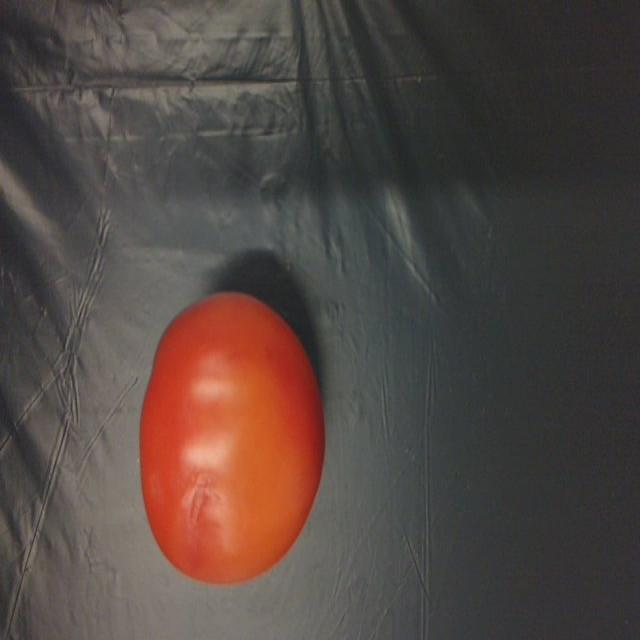kirmizi: (132, 284, 332, 585)
